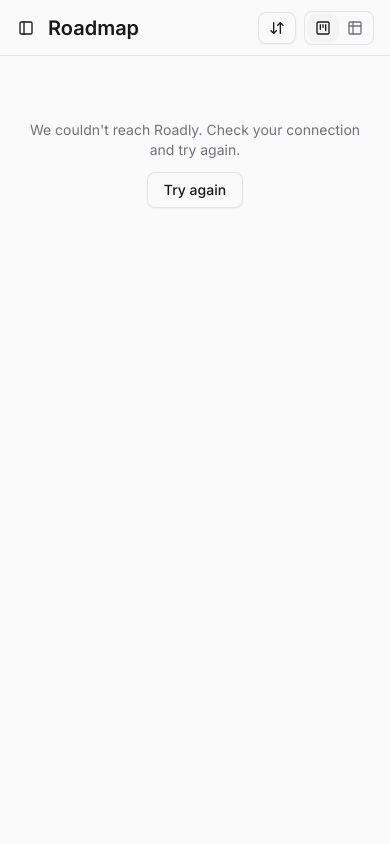
Test: opens the sidebar from a menu button on mobile and closes it after navigating
Check: the heading "Roadmap" is shown, box [48,14,139,42]
Step 1. Click the button named "Open menu" → x=26, y=28, box [12,14,40,42]
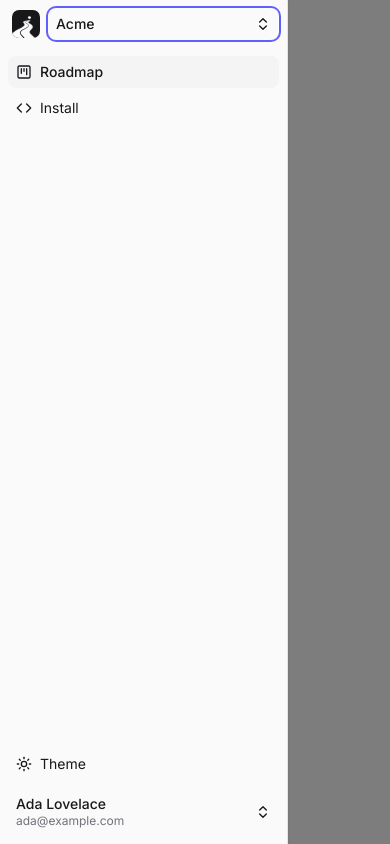
Step 2. Click the link "Install" → x=47, y=108, box [16,99,79,116]
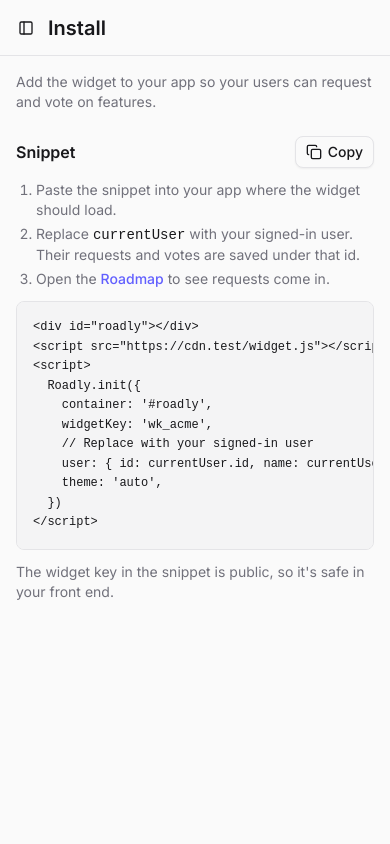
Check: the navigation bar "Workspace" is gone
